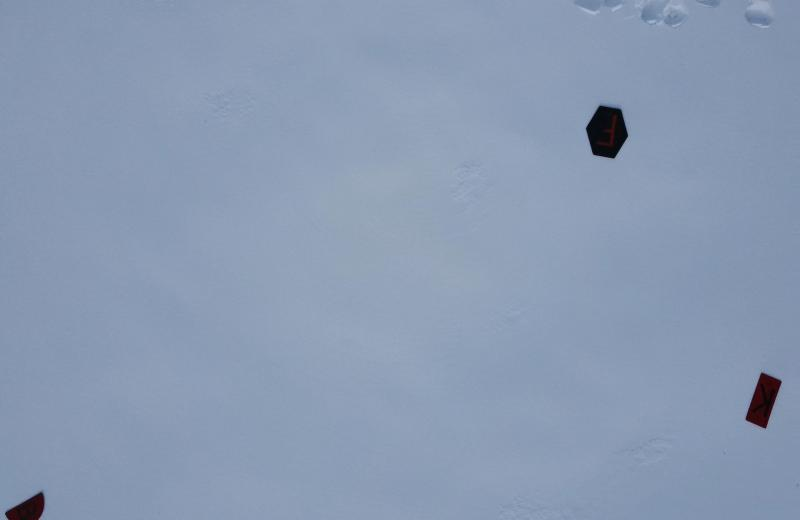Hexagon: (587, 104, 629, 159)
Rectangle: (745, 367, 783, 431)
Semi Circle: (4, 488, 47, 520)
